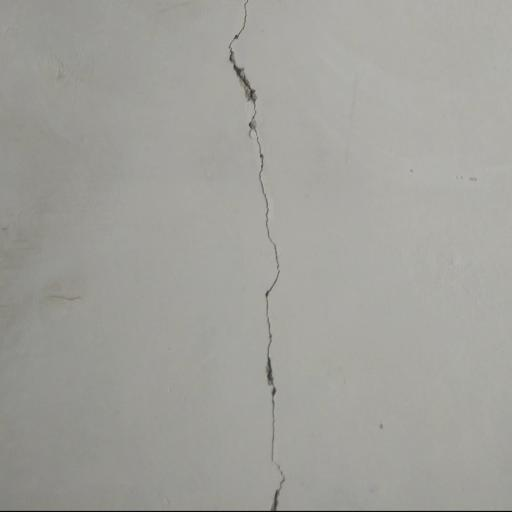major_crack: (224, 0, 309, 512)
